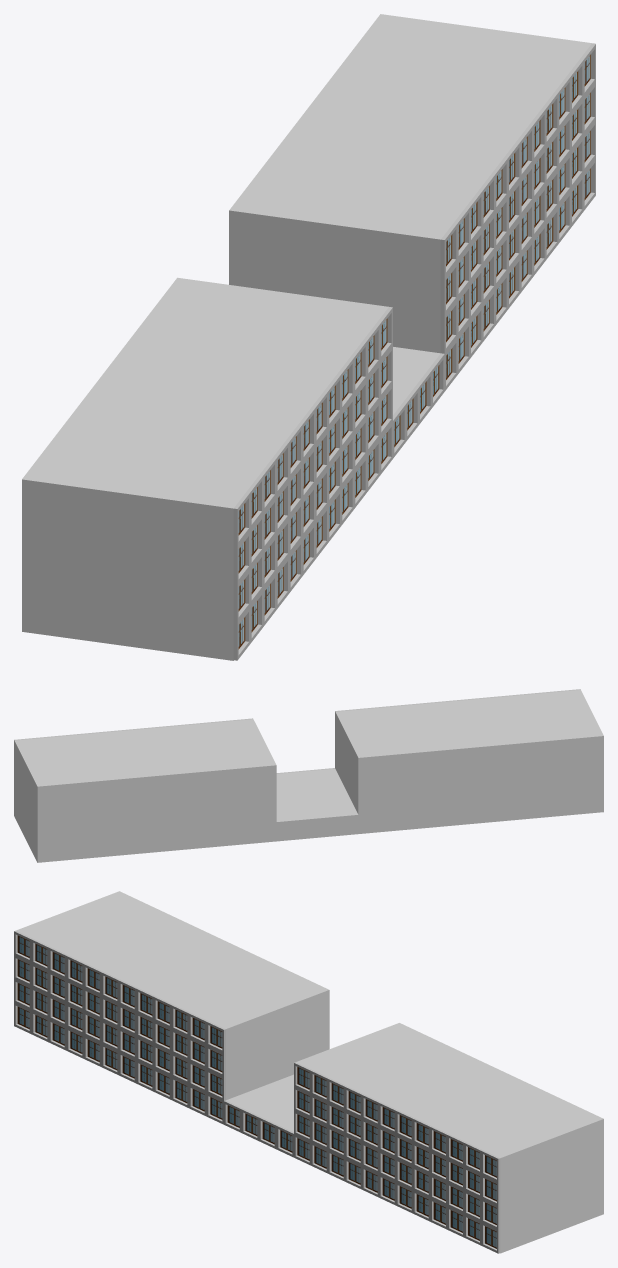
Rendered from gongyeshixunzhongxin.fbx.
3 views of the same model, one above another, from view 1: azimuth 30°, elevation 25°; view 2: azimuth 150°, elevation 25°; view 3: azimuth 270°, elevation 25° (orthographic). The views are drawn at different scales.
Parts seen in each view (by area): view 1: CityEngineMaterial_m, CityEngineMaterial_2_m, CityEngineMaterial_1_m; view 2: CityEngineMaterial_m, CityEngineMaterial_2_m; view 3: CityEngineMaterial_m, CityEngineMaterial_2_m, CityEngineMaterial_1_m.
Part boxes in pixels (x1=…): CityEngineMaterial_m: x1=22, y1=14, x2=591, y2=660; CityEngineMaterial_2_m: x1=233, y1=43, x2=595, y2=660; CityEngineMaterial_1_m: x1=238, y1=54, x2=590, y2=649; CityEngineMaterial_m: x1=14, y1=690, x2=603, y2=862; CityEngineMaterial_2_m: x1=14, y1=689, x2=580, y2=815; CityEngineMaterial_m: x1=16, y1=891, x2=603, y2=1253; CityEngineMaterial_2_m: x1=14, y1=930, x2=500, y2=1253; CityEngineMaterial_1_m: x1=17, y1=935, x2=496, y2=1248.
Bounding box in the file's own units: 121 × 20.1 × 113.
